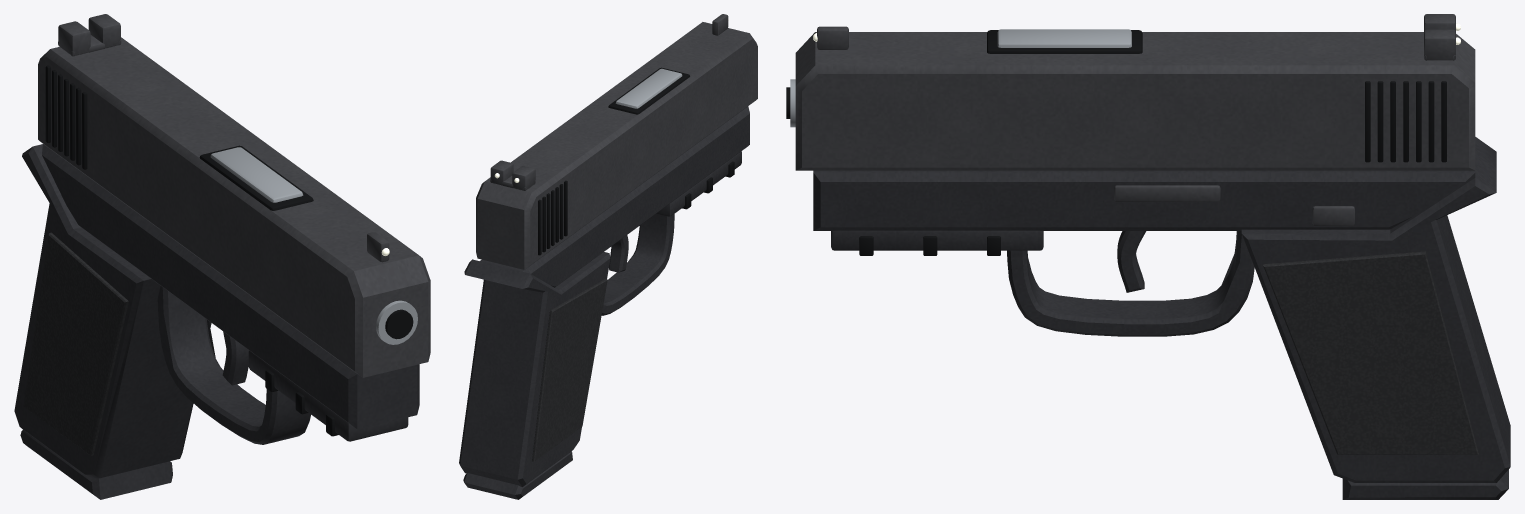
Rendered from pistol.glb.
3 views of the same model, side by side, from view 1: azimuth 30°, elevation 25°; view 2: azimuth 150°, elevation 25°; view 3: azimuth 270°, elevation 25° (orthographic). The views are drawn at different scales.
Visible parts, largest first — view 1: Frame, Slide, Magazine; view 2: Frame, Slide, Magazine; view 3: Frame, Slide, Magazine.
Boxes of the visible parts, x1=… form: Frame: x1=14, y1=144, x2=419, y2=478; Slide: x1=38, y1=14, x2=430, y2=377; Magazine: x1=20, y1=430, x2=172, y2=499; Frame: x1=459, y1=106, x2=749, y2=486; Slide: x1=476, y1=14, x2=757, y2=269; Magazine: x1=463, y1=451, x2=572, y2=499; Frame: x1=813, y1=137, x2=1510, y2=482; Slide: x1=786, y1=14, x2=1475, y2=170; Magazine: x1=1342, y1=469, x2=1508, y2=499.
Size of the model in its own units: 0.0332 by 0.1422 by 0.2047.
Materials: 6 (3 with a texture image).
